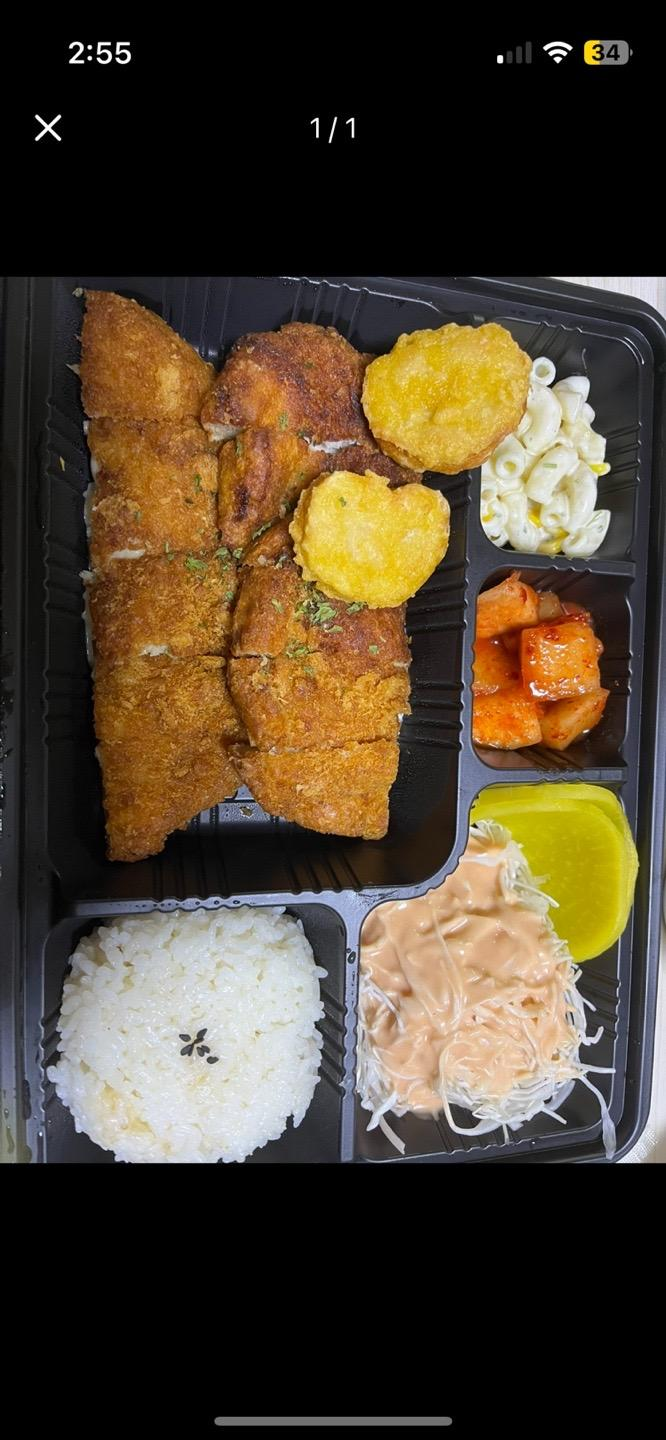Lunch Box: (0, 276, 665, 1163)
